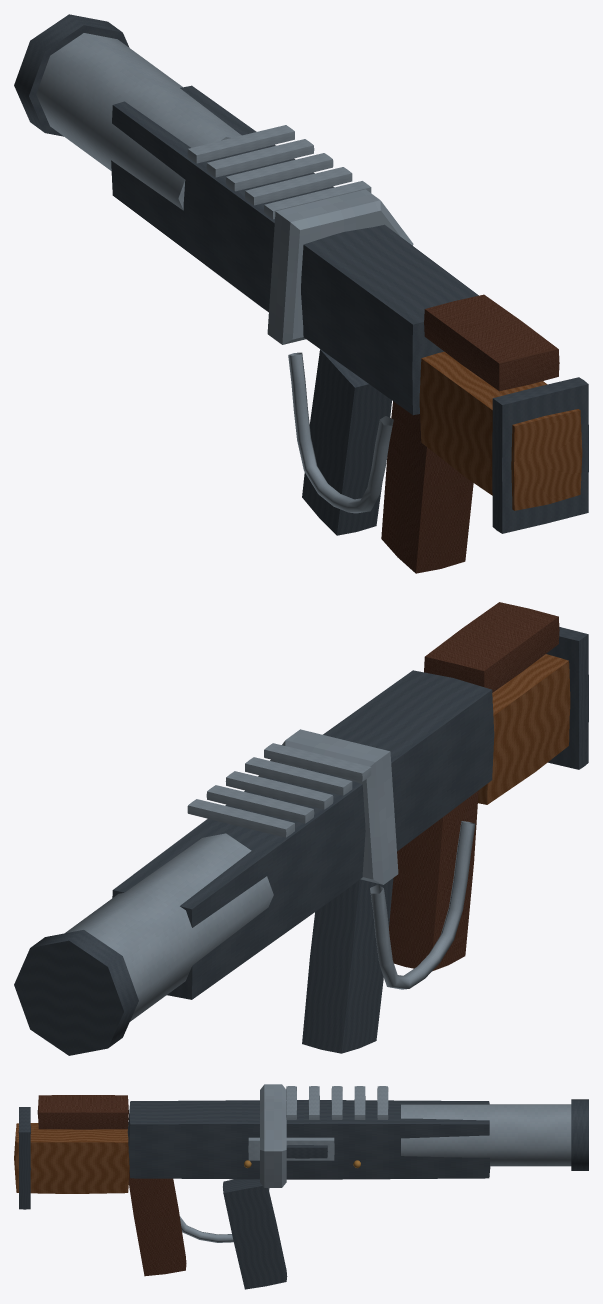
File: grenade-launcher.lod2.glb
3 renders of one model, top to bottom at view 1: azimuth 30°, elevation 25°; view 2: azimuth 150°, elevation 25°; view 3: azimuth 270°, elevation 25°, orthographic. The views are drawn at different scales.
Parts seen in each view (by area): view 1: iron.0, steel.2, wood.8, leather.1, iron.9, leather.17, steel.10, iron.18, steel.11, iron.16, steel.6, steel.3 (+3 smaller); view 2: iron.0, steel.2, iron.16, iron.9, leather.1, wood.8, leather.17, steel.10, steel.11, iron.18, steel.7, steel.3 (+3 smaller); view 3: iron.0, steel.2, wood.8, iron.9, leather.1, leather.17, steel.10, iron.16, iron.18, steel.12, iron.13, steel.11 (+5 smaller).
Part boxes in pixels (x1,y1,x2,y2): iron.0: (111,85,478,415); steel.2: (36,33,241,210); wood.8: (419,351,582,510); leather.1: (381,401,473,573); iron.9: (302,349,391,535); leather.17: (424,294,559,391); steel.10: (267,189,413,344); iron.18: (492,377,588,533); steel.11: (288,352,393,513); iron.16: (14,14,129,136); steel.6: (245,167,352,205); steel.3: (187,125,294,163); iron.0: (112,670,494,999); steel.2: (65,833,273,1021); iron.16: (14,930,138,1055); iron.9: (302,878,393,1053); leather.1: (389,790,478,971); wood.8: (478,654,570,804); leather.17: (424,602,559,692); steel.10: (258,729,398,884); steel.11: (370,821,475,989); iron.18: (546,627,588,769); steel.7: (264,743,371,781); steel.3: (187,799,294,837); iron.0: (127,1100,490,1179); steel.2: (401,1104,571,1166); wood.8: (14,1123,129,1193); iron.9: (223,1179,287,1289); leather.1: (128,1169,186,1276); leather.17: (37,1095,128,1129); steel.10: (260,1084,286,1187); iron.16: (571,1099,588,1170); iron.18: (18,1107,30,1209); steel.12: (248,1137,334,1160); iron.13: (286,1145,327,1158); steel.11: (179,1188,269,1242).
Size of the model in its own units: 0.1785 by 0.403 by 1.13.
5 materials, 5 textured.
